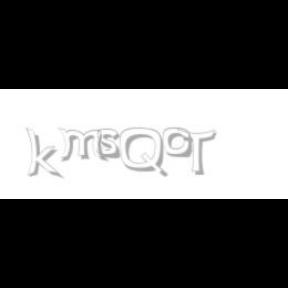Q: (120, 128, 166, 178)
T: (176, 128, 216, 176)
k: (25, 128, 63, 180)
m: (57, 128, 109, 162)
o: (162, 128, 192, 158)
s: (97, 128, 125, 160)
